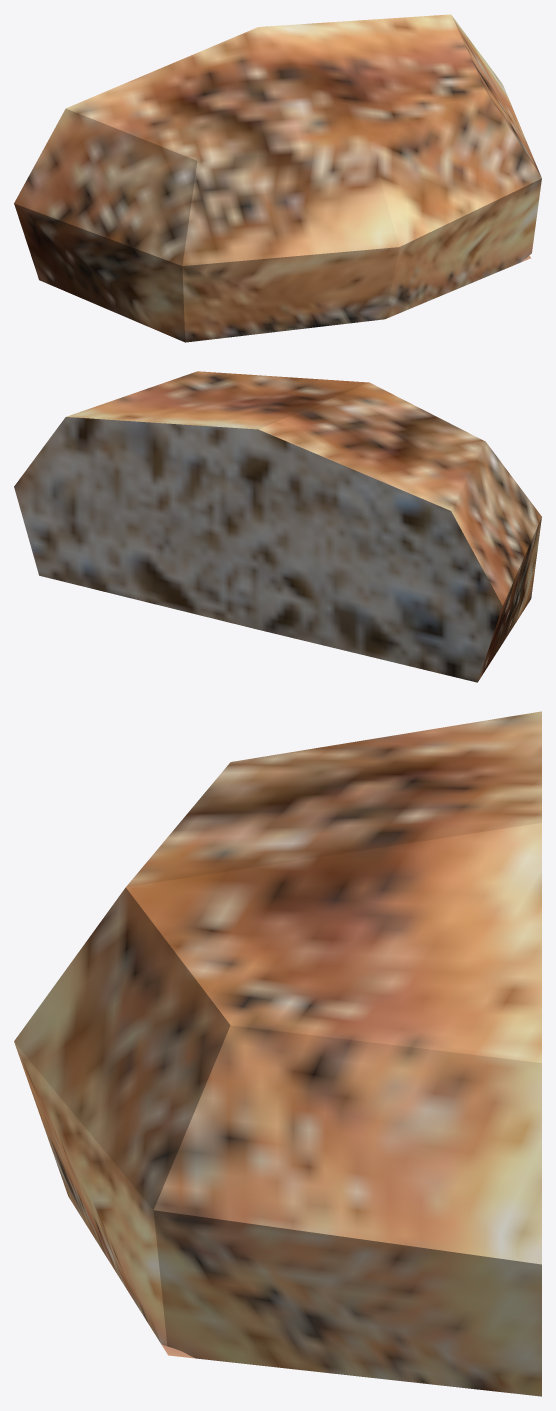
The model's file is HalfBread.fbx.
3 renders of one model, top to bottom at view 1: azimuth 30°, elevation 25°; view 2: azimuth 150°, elevation 25°; view 3: azimuth 270°, elevation 25°, orthographic. The views are drawn at different scales.
Parts seen in each view (by area): view 1: Cube; view 2: Cube; view 3: Cube.
Part boxes in pixels (<box>): Cube: <box>14,14,541,342</box>; Cube: <box>14,371,541,682</box>; Cube: <box>14,711,541,1396</box>.
Bounding box in the file's own units: 179 × 70.15 × 89.59.
1 material, 1 textured.
